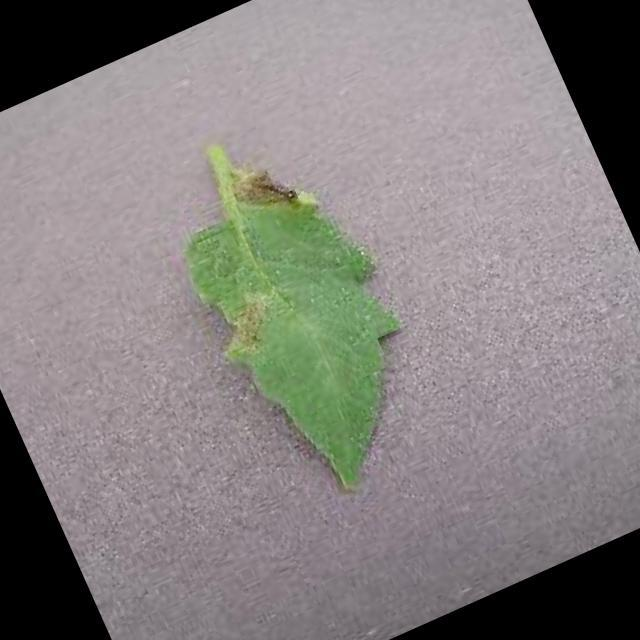Tomato late blight leaf: (154, 132, 460, 522)
